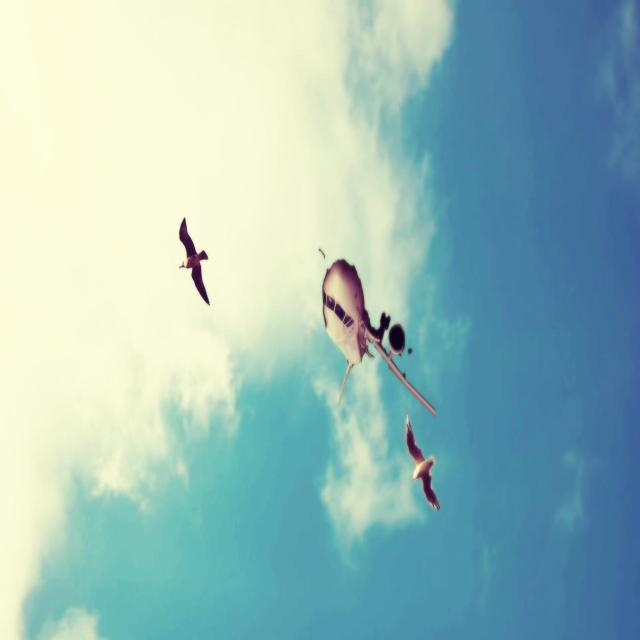airplane: (318, 247, 436, 417)
